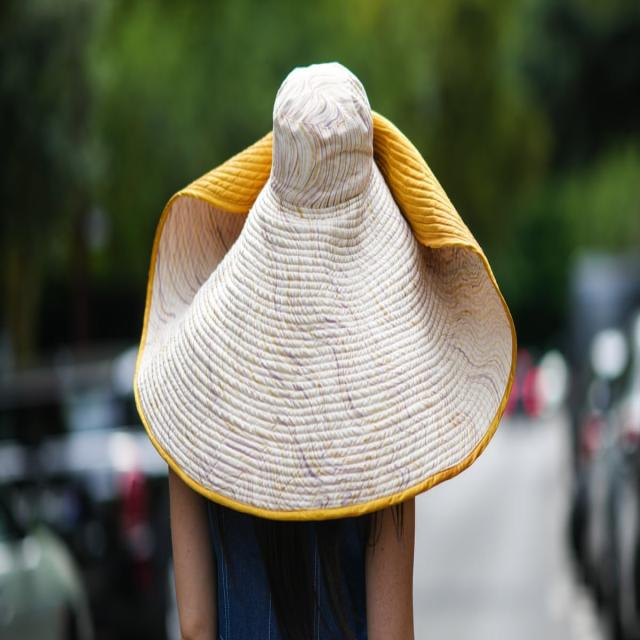hat: (124, 55, 525, 529)
